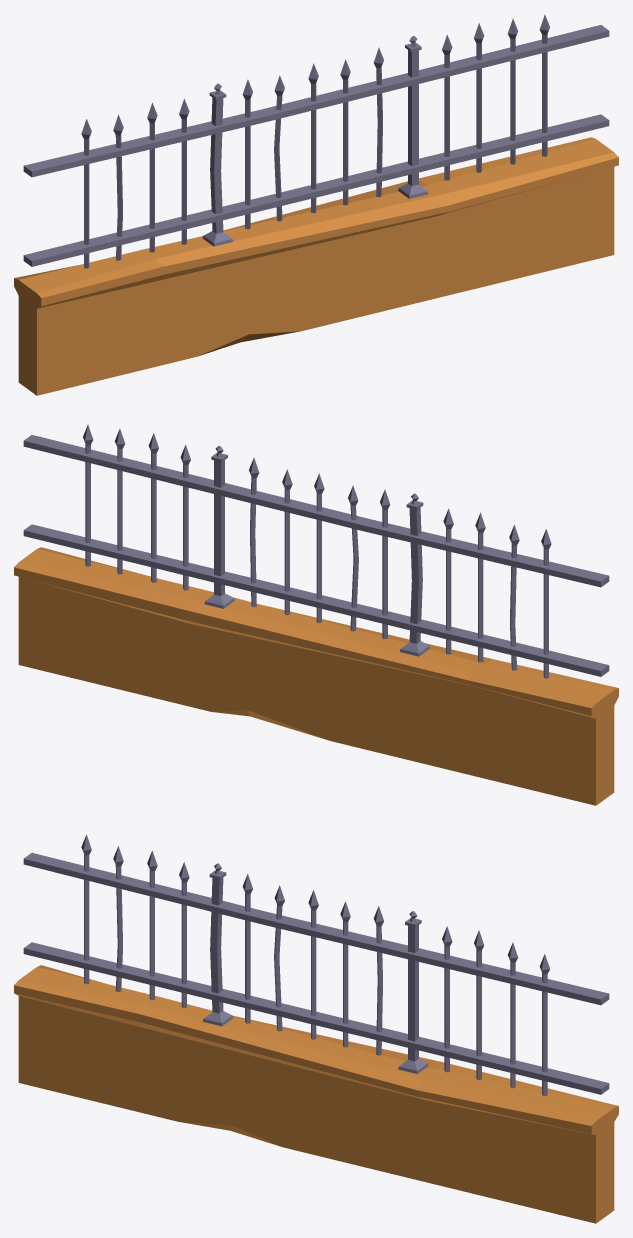
File: fence1.fbx
The picture shows the model from 3 angles, top to bottom: view 1: azimuth 30°, elevation 25°; view 2: azimuth 150°, elevation 25°; view 3: azimuth 330°, elevation 25°; orthographic projection.
Parts seen in each view (by area): view 1: SM_Env_Fence_01; view 2: SM_Env_Fence_01; view 3: SM_Env_Fence_01.
Boxes of the visible parts, x1,y1,x2,y2 form: SM_Env_Fence_01: (14, 14, 618, 395); SM_Env_Fence_01: (14, 424, 618, 805); SM_Env_Fence_01: (14, 834, 618, 1223).
Bounding box in the file's own units: 175 × 74.94 × 15.57.
